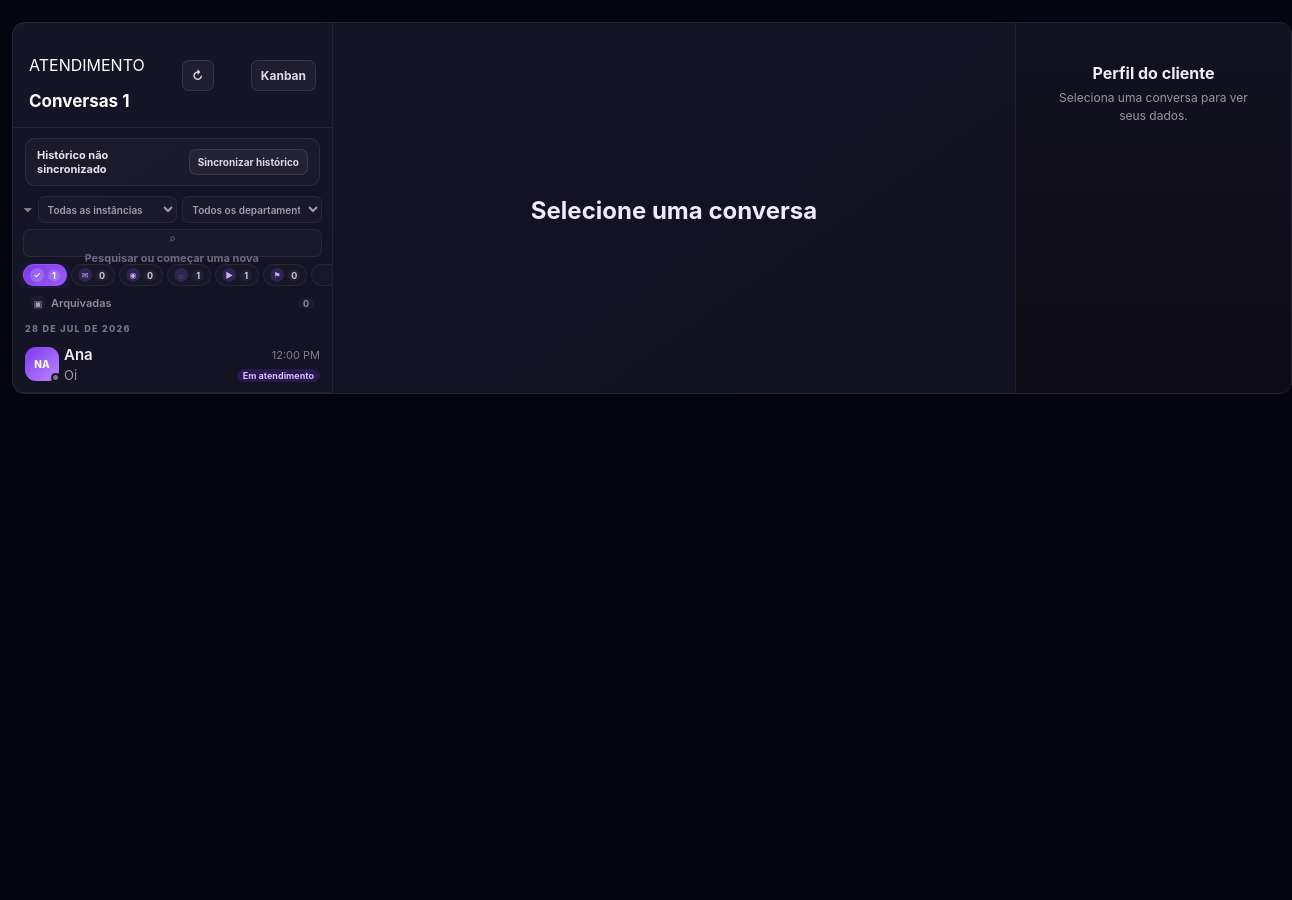
Test: Prévia de link no compositor › digitar um link mostra o cartão com título e domínio antes de enviar
This screenshot has width=1292, height=900.
Step 1. Click the button with class "conversation-item" → (42, 364), box [13,336,332,393]
(page scrolled)
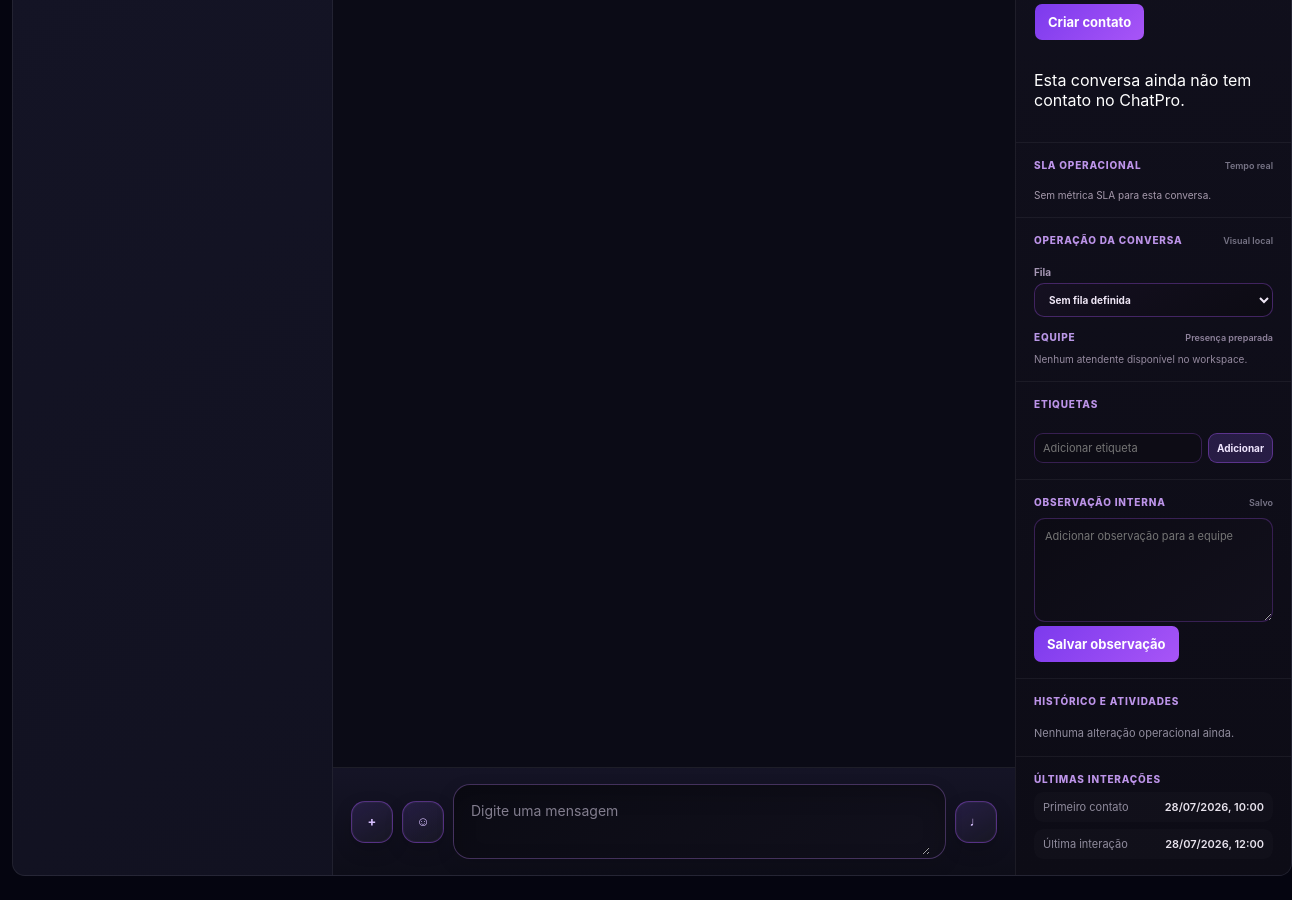
Now the button named "Adicionar anexo" is shown, box [351,801,393,843]
Step 2. Type "olha https://example.com/materia" into the text box labelled "mensagem" → (700, 822), box [471,788,930,855]
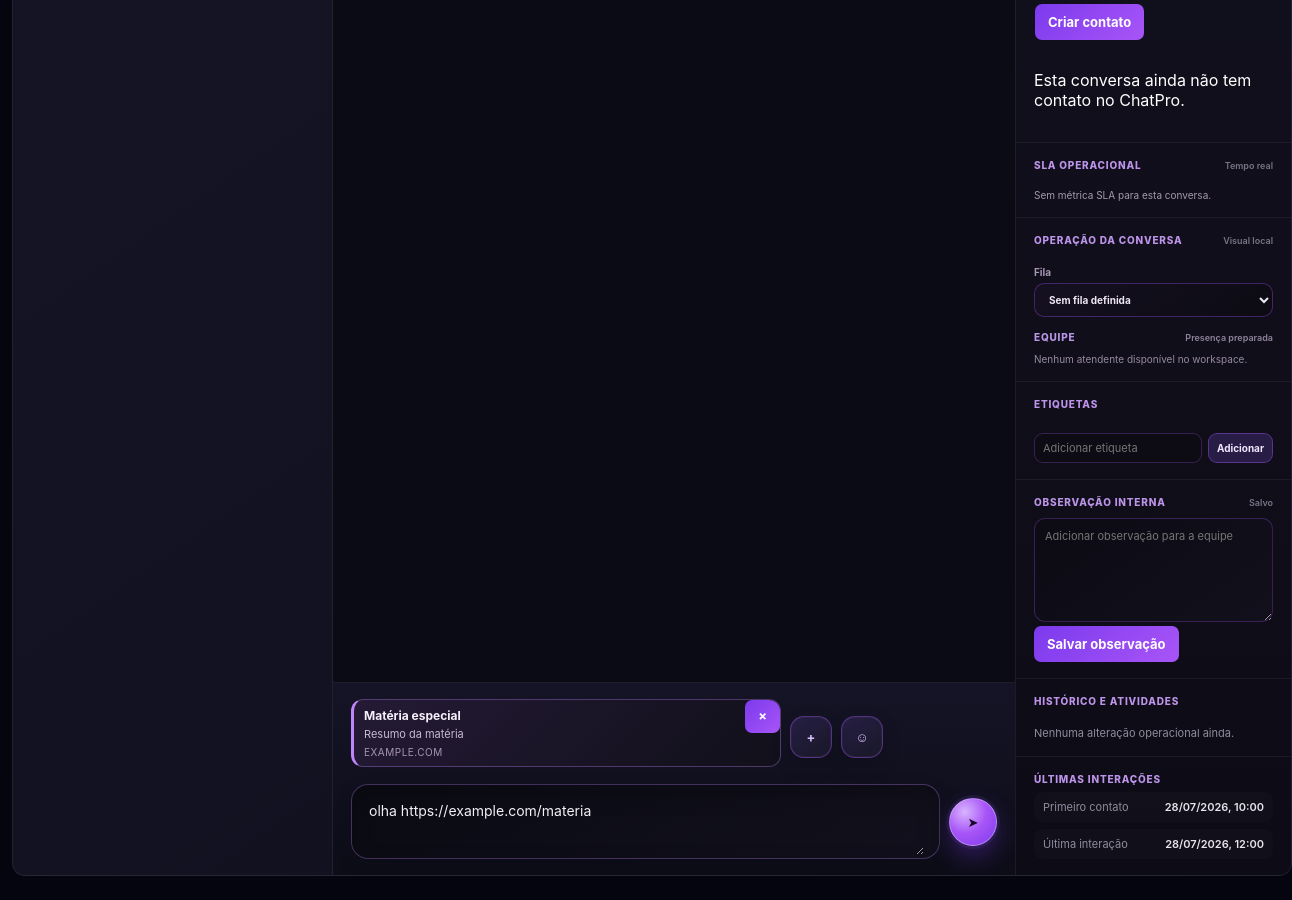
Now the text "Matéria especial" is shown, box [364,708,461,723]
Now the element named "Prévia do link" shows "example.com", box [364,746,443,758]
Now the button named "Enviar sem a prévia do link" is shown, box [745,700,780,733]
